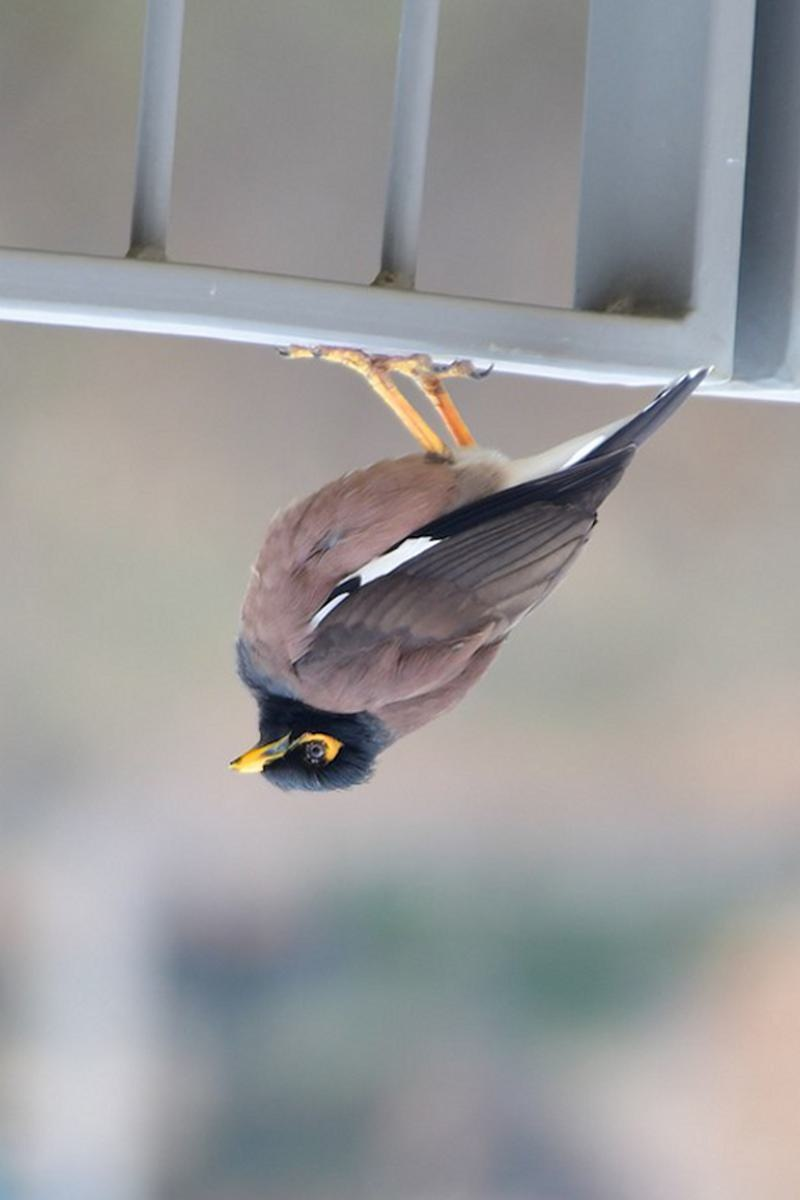myna: (207, 278, 722, 857)
